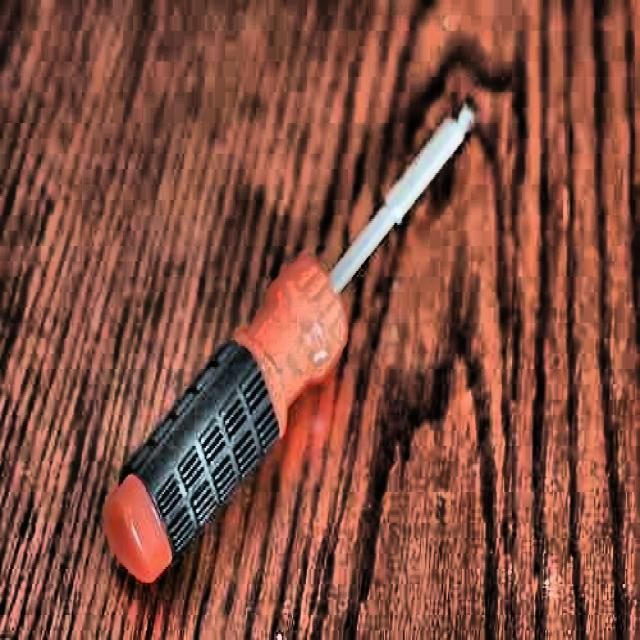screwdriver: (102, 101, 478, 586)
